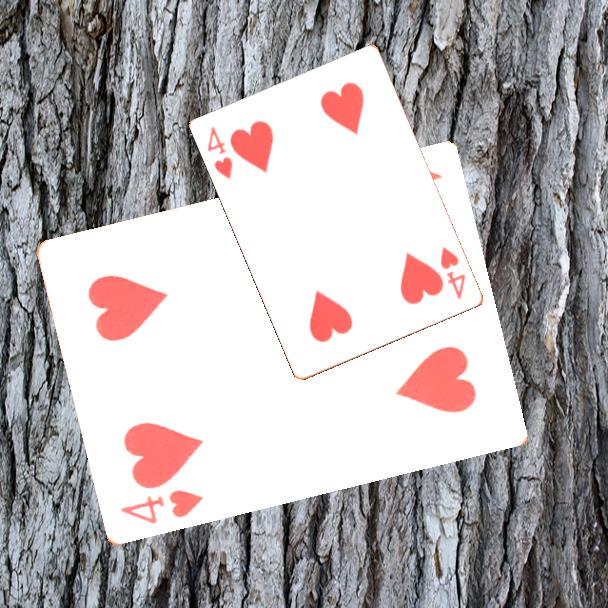h04: (116, 486, 206, 528), (437, 243, 469, 302), (204, 123, 236, 182)
